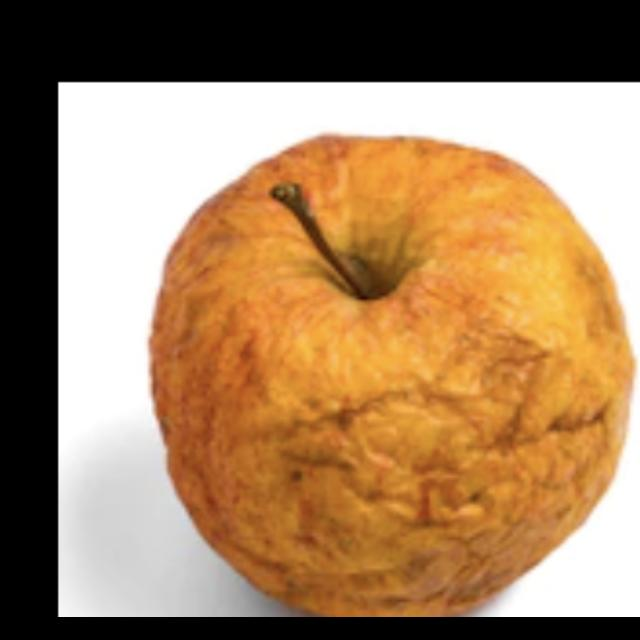Apel Tidak Segar: (98, 104, 640, 616)
